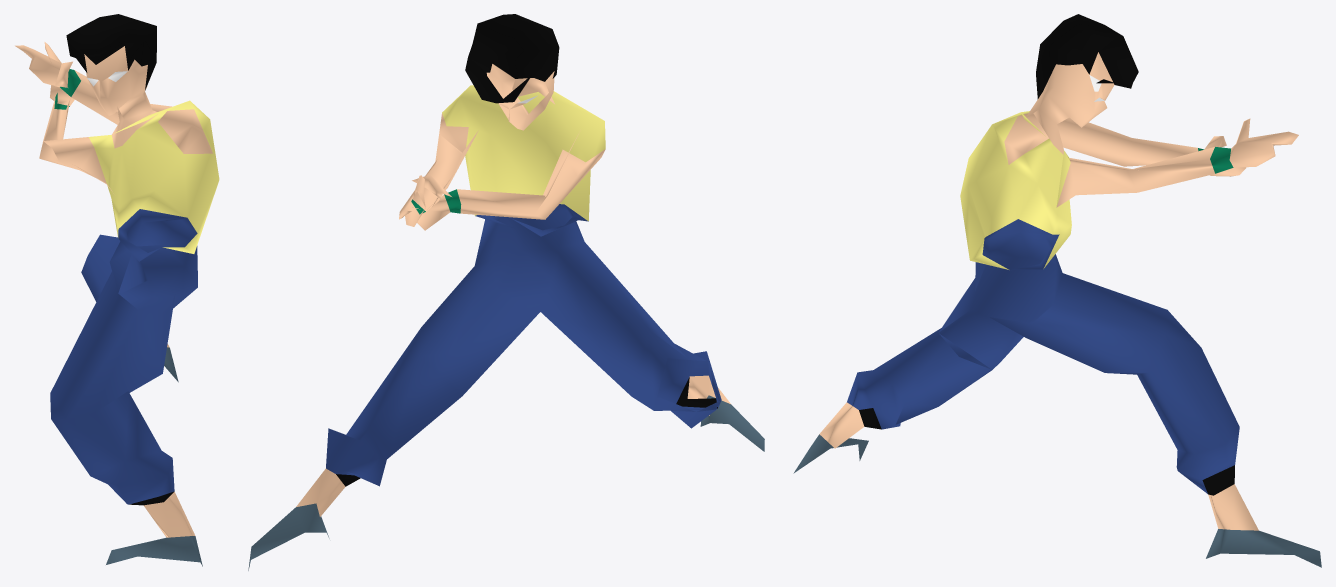
The model's file is ps2_save-icons_yuyuhakushodarktournament.glb.
The picture shows the model from 3 angles, left to right: view 1: azimuth 30°, elevation 25°; view 2: azimuth 150°, elevation 25°; view 3: azimuth 270°, elevation 25°; orthographic projection. The views are drawn at different scales.
Visible parts, largest first — view 1: yuyu.ico; view 2: yuyu.ico; view 3: yuyu.ico.
Part boxes in pixels (x1,y1,x2,y2): yuyu.ico: (15,14,219,566); yuyu.ico: (248,14,764,570); yuyu.ico: (793,14,1321,567).
Size of the model in its own units: 2.1 by 3.58 by 3.55.
Materials: 1 (1 with a texture image).
